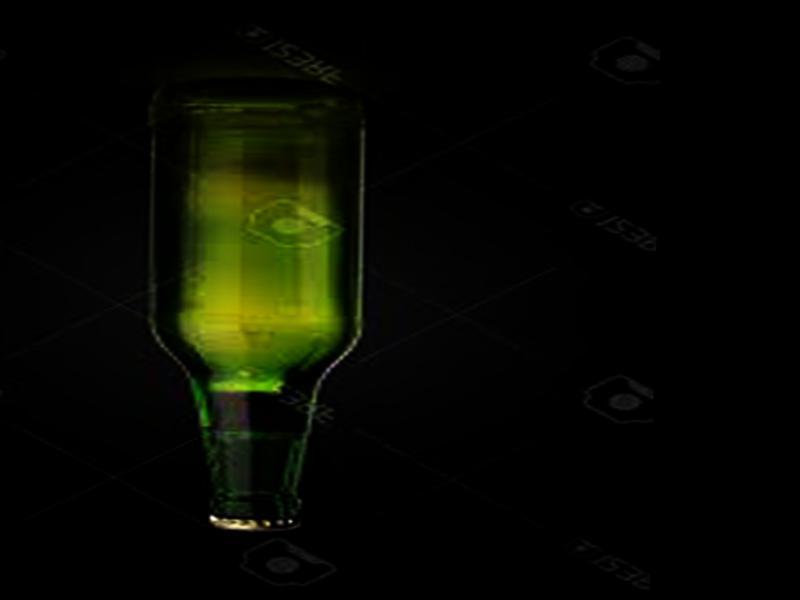Beer: (148, 80, 371, 534)
